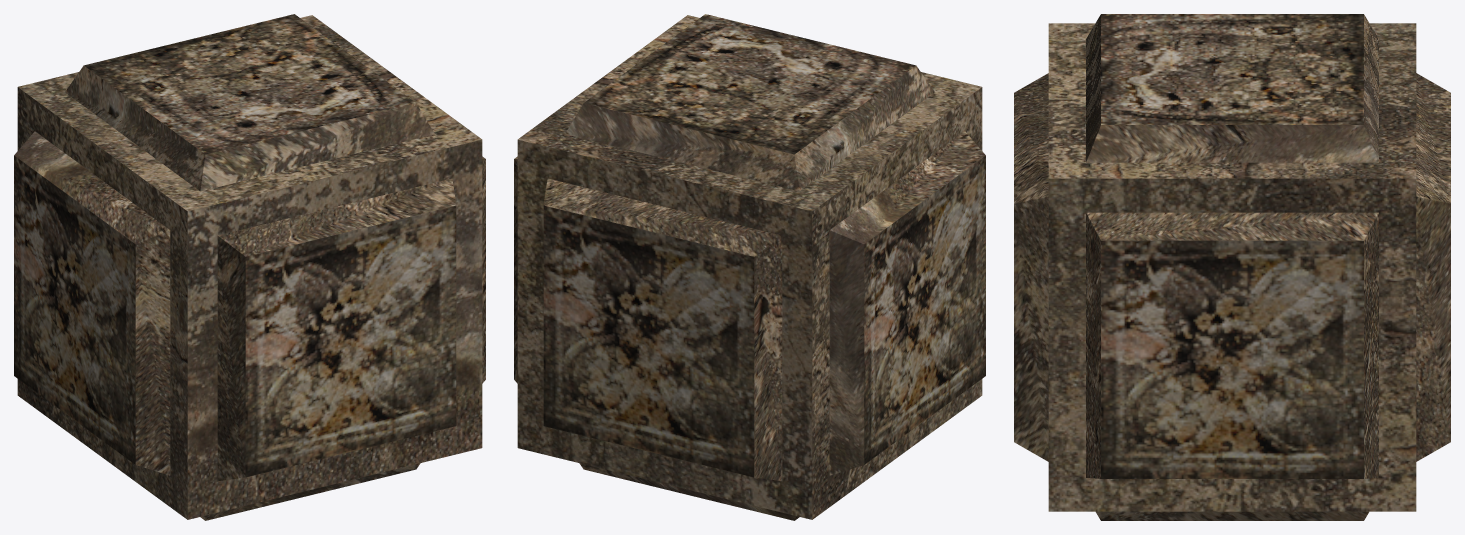
The model's file is materials_5_decoration_17.fbx.
3 views of the same model, side by side, from view 1: azimuth 30°, elevation 25°; view 2: azimuth 150°, elevation 25°; view 3: azimuth 270°, elevation 25° (orthographic). The views are drawn at different scales.
Parts seen in each view (by area): view 1: materials_5_decoration_17; view 2: materials_5_decoration_17; view 3: materials_5_decoration_17.
Part boxes in pixels (x1,y1,x2,y2): materials_5_decoration_17: (14, 14, 485, 520); materials_5_decoration_17: (514, 14, 985, 520); materials_5_decoration_17: (1014, 14, 1450, 520).
Bounding box in the file's own units: 43.08 × 43.08 × 43.08.
